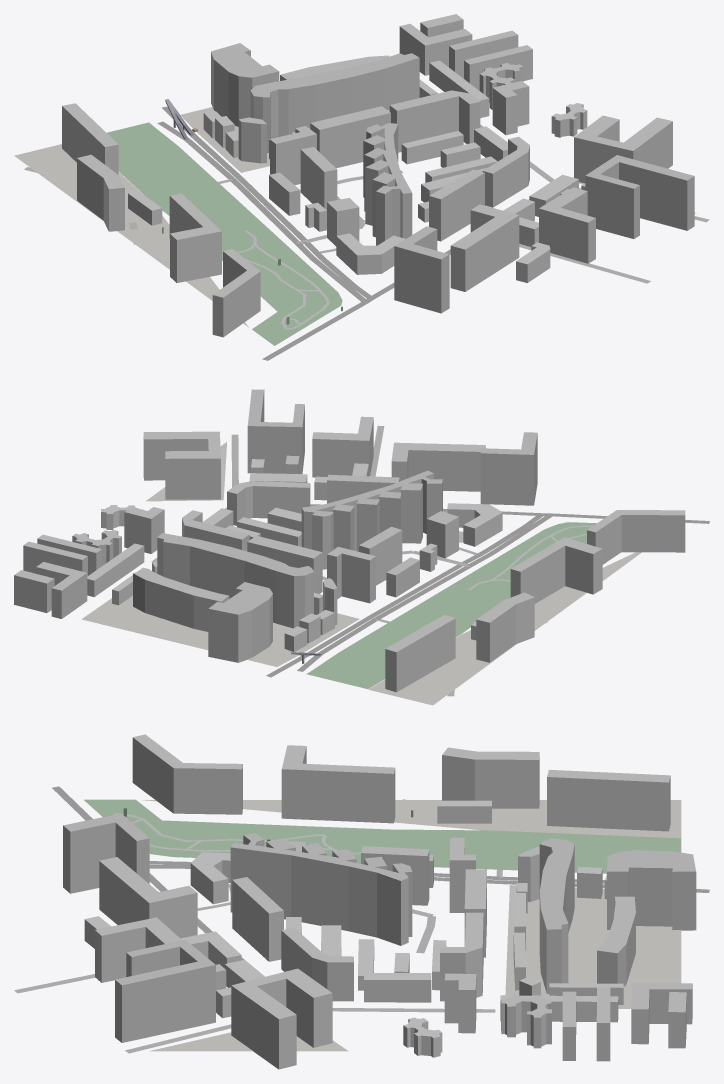
The picture shows the model from 3 angles, top to bottom: view 1: azimuth 30°, elevation 25°; view 2: azimuth 150°, elevation 25°; view 3: azimuth 270°, elevation 25°; orthographic projection. The views are drawn at different scales.
Bounding box in the file's own units: 575 × 62.89 × 582.
